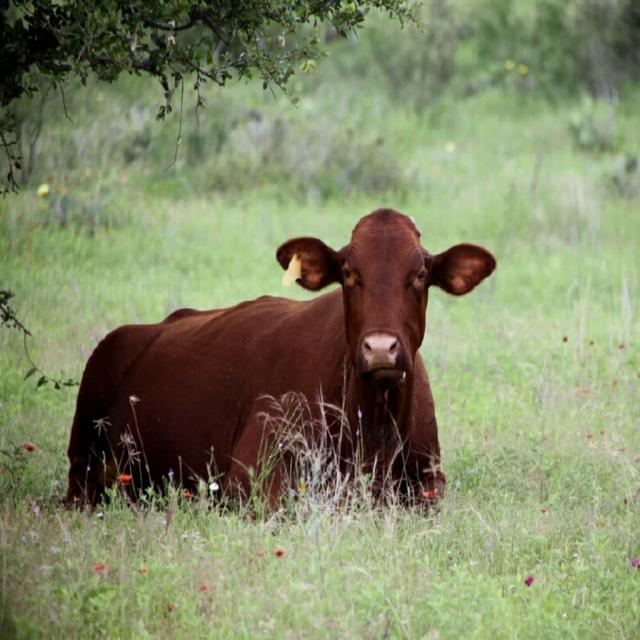Cattle: (65, 207, 498, 523)
